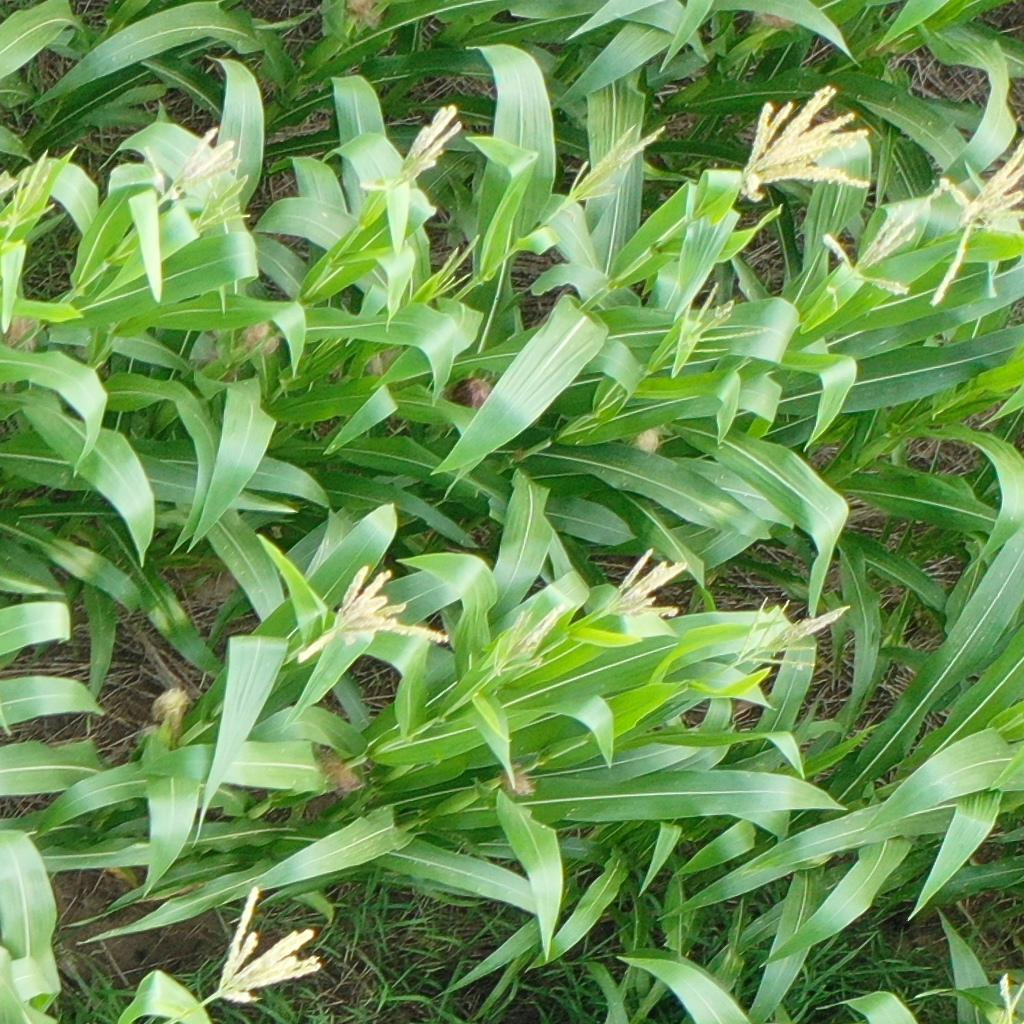Tassel: (730, 81, 876, 203), (292, 564, 450, 667), (930, 138, 1023, 309), (208, 886, 322, 1004), (810, 203, 913, 297), (359, 104, 463, 197), (730, 597, 852, 672), (565, 124, 668, 208), (141, 128, 242, 203), (594, 547, 691, 625), (675, 282, 768, 362), (1, 150, 57, 235), (493, 608, 562, 673), (194, 175, 251, 238), (428, 235, 482, 301), (997, 970, 1021, 1024)
